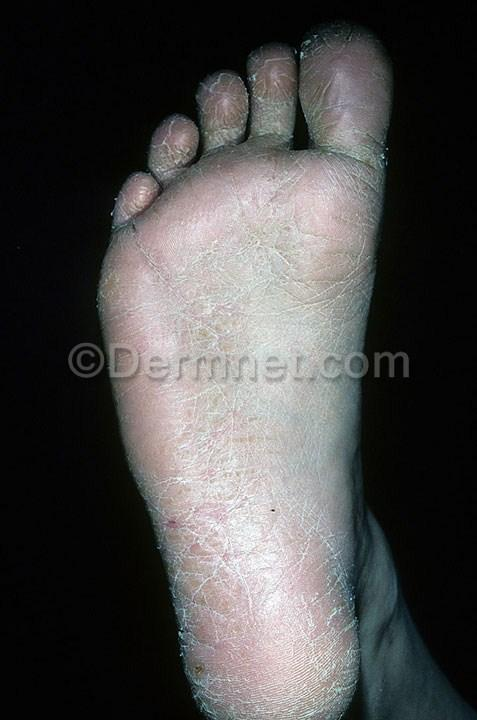Eczema: (106, 169, 369, 342), (116, 383, 403, 533), (176, 545, 363, 720), (166, 36, 390, 159)
